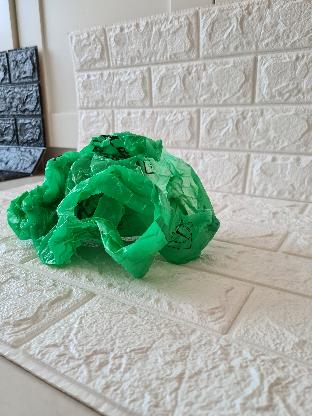Plastic Bag: (10, 127, 220, 276)
